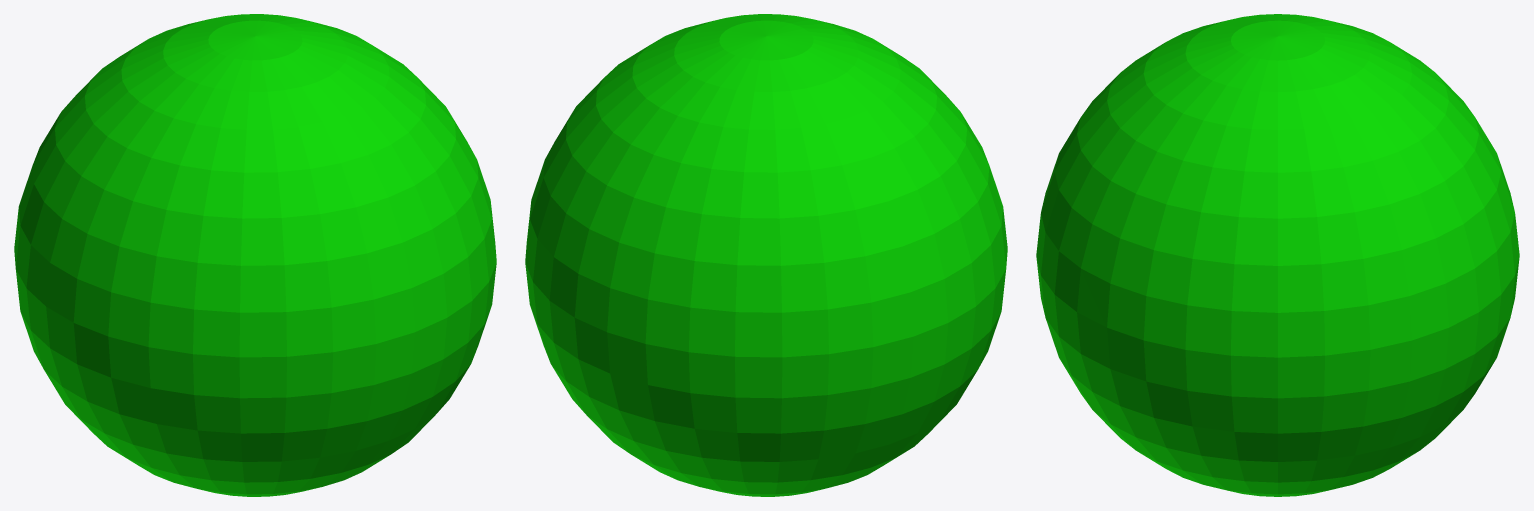
File: player.obj
3 renders of one model, left to right at view 1: azimuth 30°, elevation 25°; view 2: azimuth 150°, elevation 25°; view 3: azimuth 270°, elevation 25°, orthographic.
Parts seen in each view (by area): view 1: 立方体.002; view 2: 立方体.002; view 3: 立方体.002.
Boxes of the visible parts, x1,y1,x2,y2 form: 立方体.002: (14,14,496,496); 立方体.002: (525,14,1007,496); 立方体.002: (1036,14,1519,496).
Size of the model in its own units: 1.04 by 1.04 by 1.04.
1 material, 1 textured.
